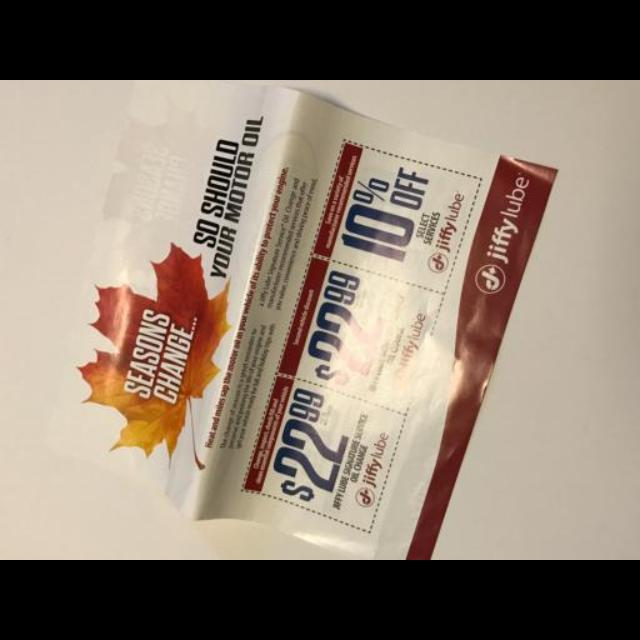papel: (59, 80, 560, 560)
